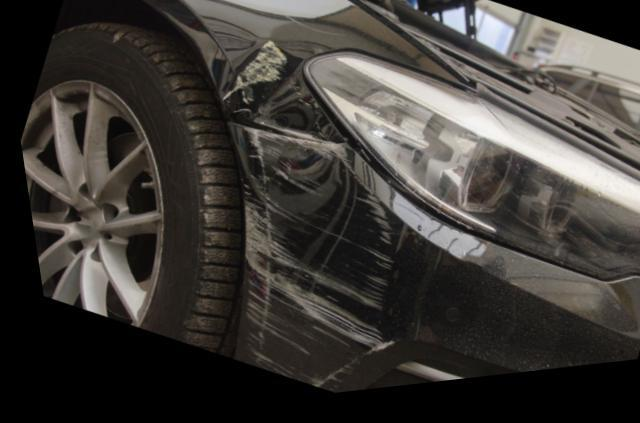scratch: (230, 133, 388, 397), (218, 43, 343, 154)
